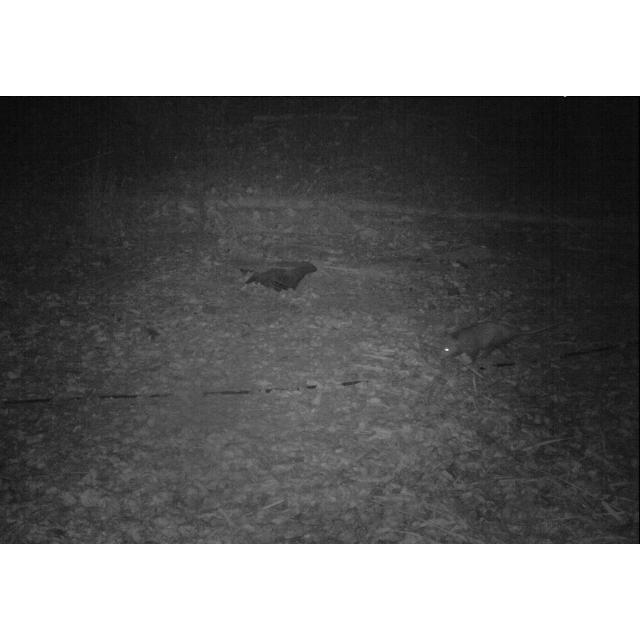animals: (239, 256, 321, 296)
